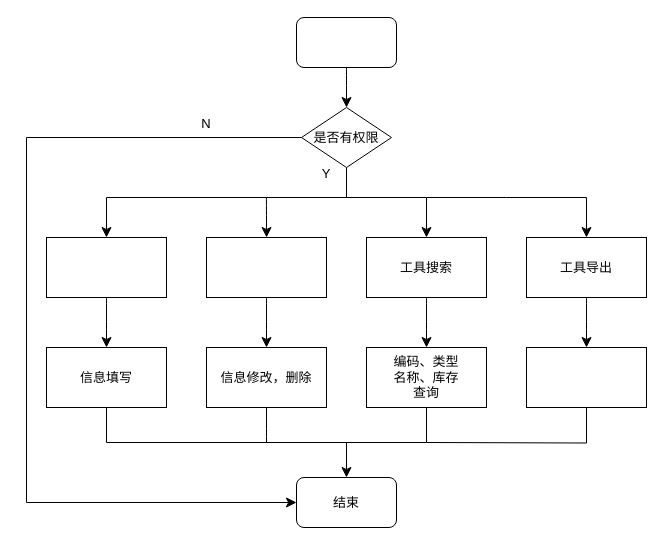
This 664x545 diagram has some shape labels left out. The shapes that lost their labels are listed below. From the top down, each one's box as (x1, y1, x2, y2) in pixels, then its label:
(296, 16, 396, 68): 开始
(46, 236, 166, 298): 工具新增
(206, 236, 326, 298): 工具修改，删除
(526, 346, 646, 408): excel，csv 表单
